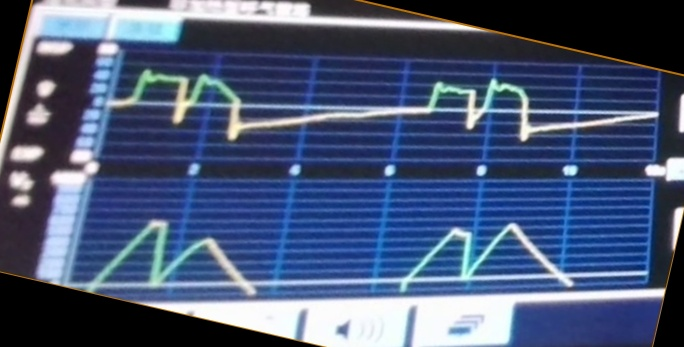Double_Triggering Flow: (119, 67, 585, 158)
Double_Triggering Volume: (108, 213, 587, 291)
